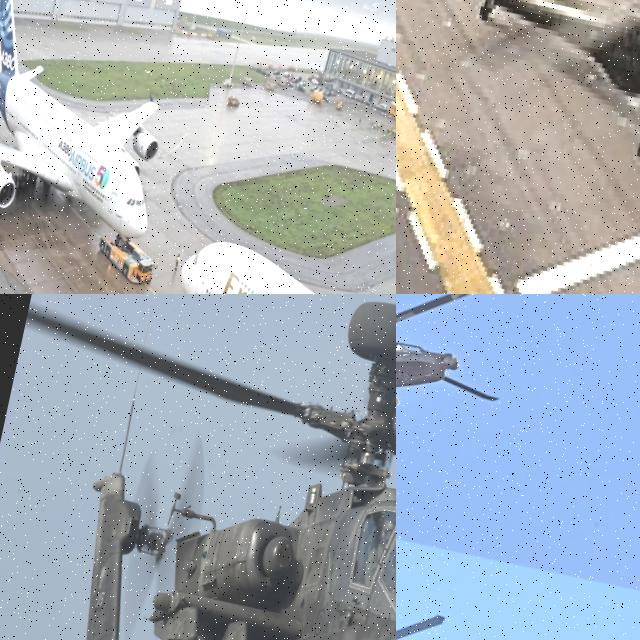A380: (0, 0, 193, 277)
Apache: (0, 294, 396, 640), (412, 0, 640, 258), (396, 294, 523, 478), (396, 552, 595, 640)
